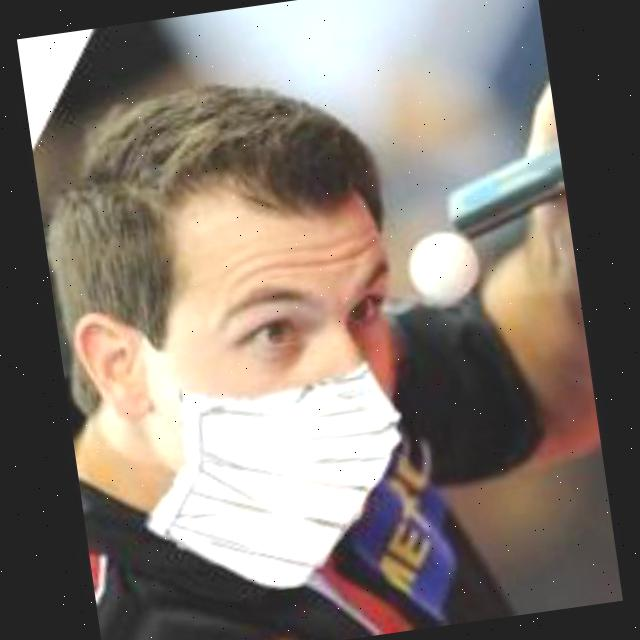suspicion: (66, 100, 416, 546)
